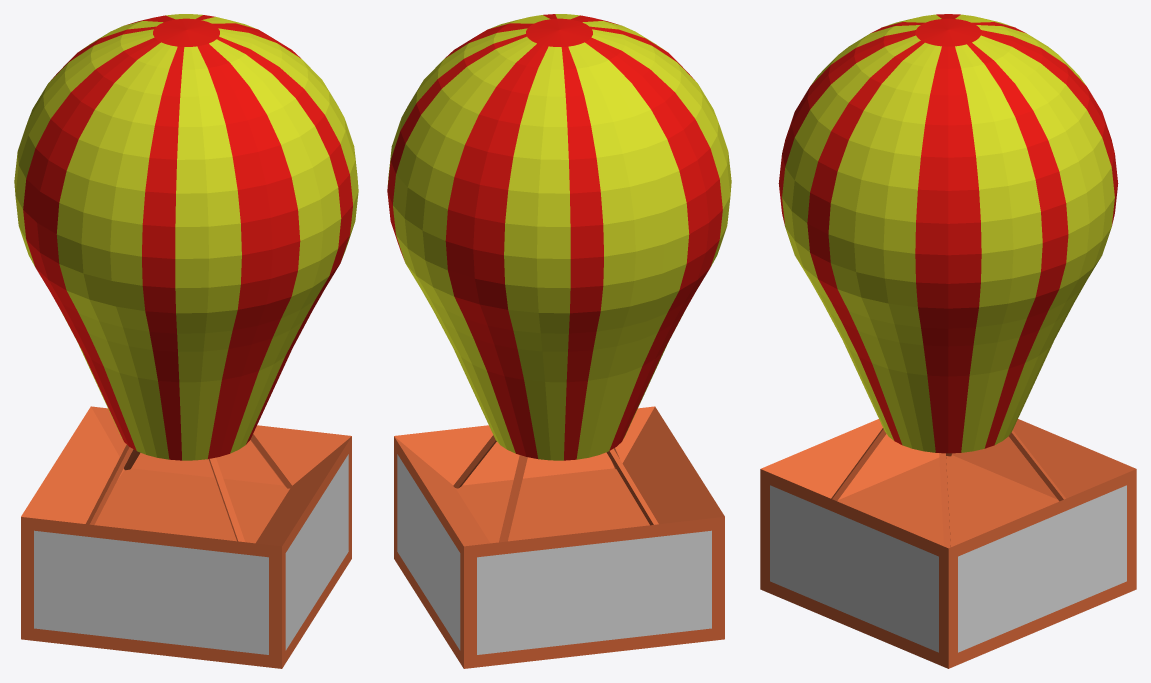
The model's file is balloon.glb.
The picture shows the model from 3 angles, left to right: view 1: azimuth 30°, elevation 25°; view 2: azimuth 150°, elevation 25°; view 3: azimuth 270°, elevation 25°; orthographic projection.
Parts seen in each view (by area): view 1: balloon; view 2: balloon; view 3: balloon.
Part boxes in pixels (left/top/right/bottom): balloon: left=14, top=14, right=358, bottom=668; balloon: left=387, top=14, right=731, bottom=668; balloon: left=760, top=14, right=1136, bottom=668.
Bounding box in the file's own units: 13.98 × 22.95 × 13.98.
